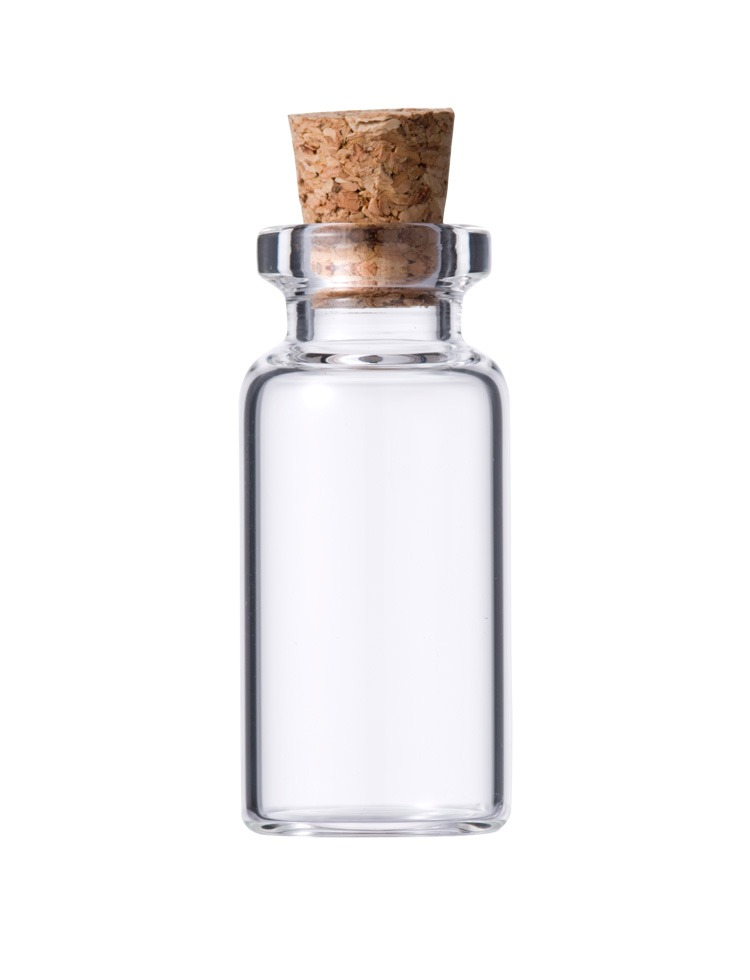container: (228, 95, 535, 854)
